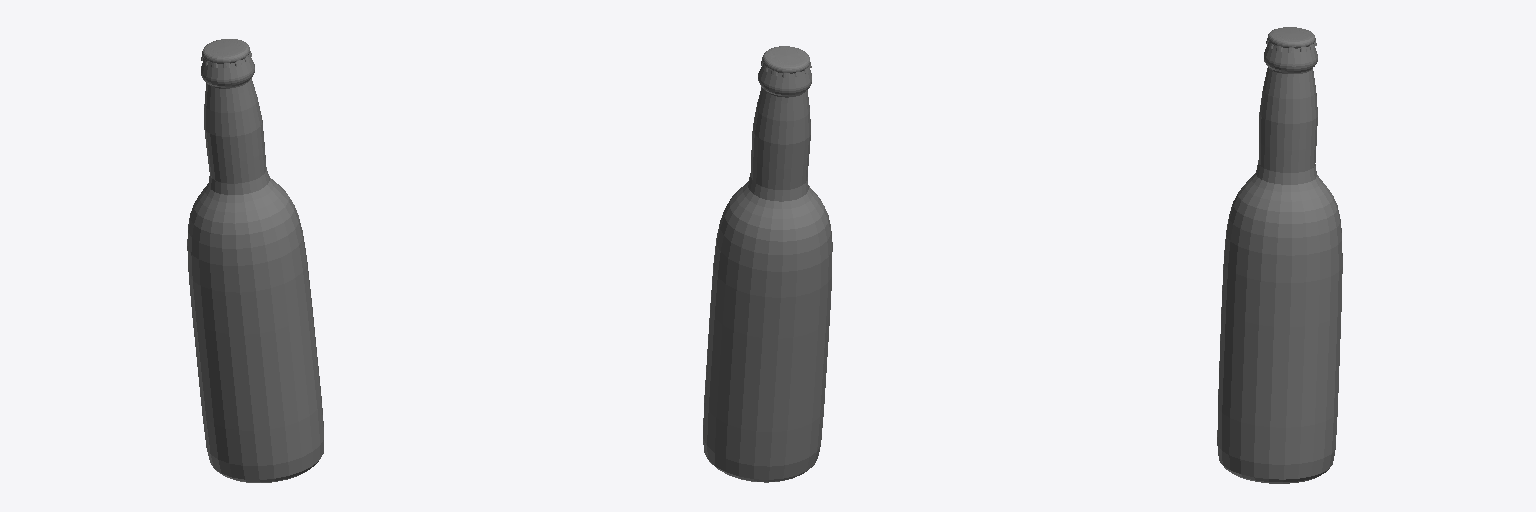
File: bouteilletexturée.obj
The picture shows the model from 3 angles: view 1: azimuth 30°, elevation 25°; view 2: azimuth 150°, elevation 25°; view 3: azimuth 270°, elevation 25°; orthographic projection.
Visible parts, largest first — view 1: Botella.001; view 2: Botella.001; view 3: Botella.001.
Boxes of the visible parts, <box> form: Botella.001: <box>187,39,323,482</box>; Botella.001: <box>703,46,832,482</box>; Botella.001: <box>1217,27,1342,483</box>.
Size of the model in its own units: 11.86 by 40.76 by 10.95.